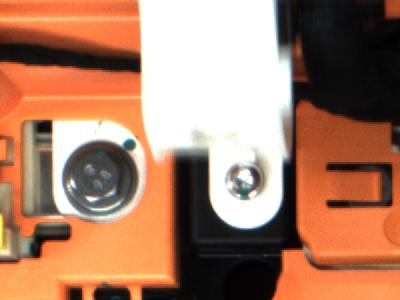nut_b: (58, 139, 140, 220)
screw_m: (224, 157, 273, 207)
